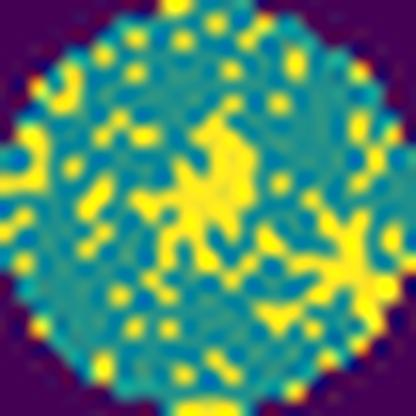Center: (133, 85, 269, 284)
